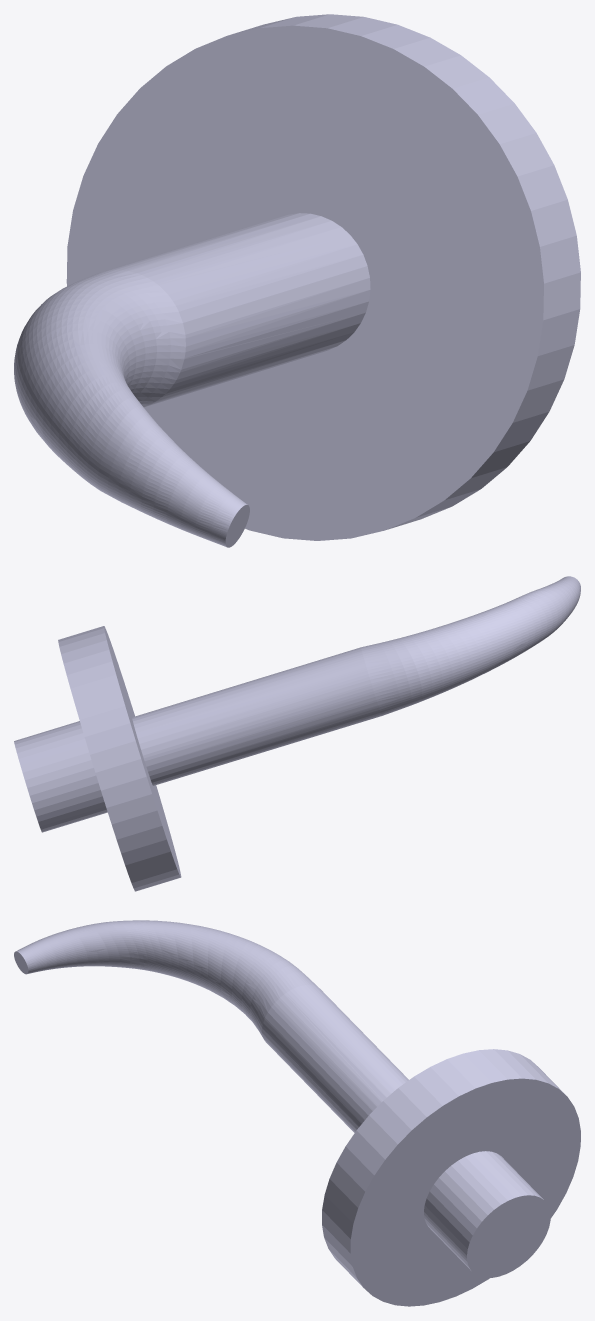
Rendered from nozzle.dae.
3 views of the same model, one above another, from view 1: azimuth 30°, elevation 25°; view 2: azimuth 150°, elevation 25°; view 3: azimuth 270°, elevation 25° (orthographic). The views are drawn at different scales.
Parts seen in each view (by area): view 1: node0; view 2: node0; view 3: node0.
Part boxes in pixels (x1,y1,x2,y2): node0: [14, 14, 580, 547]; node0: [14, 576, 580, 891]; node0: [14, 920, 580, 1306].
Bounding box in the file's own units: 0.1781 × 0.223 × 0.1112.
